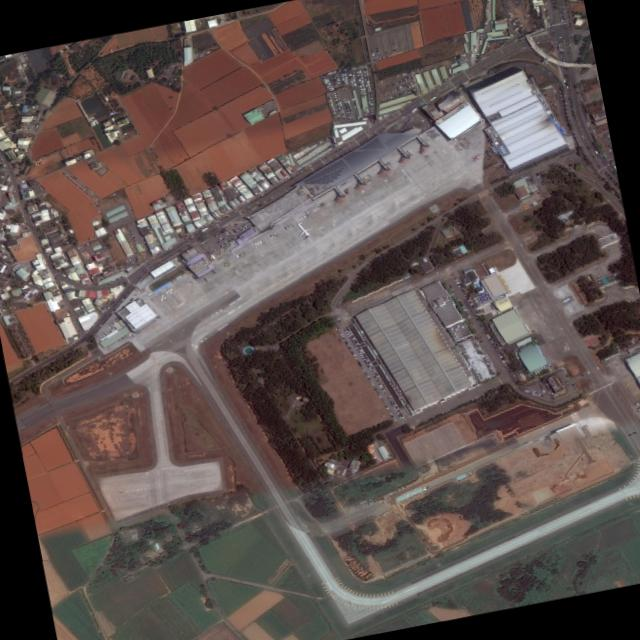large-vehicle: (411, 108, 416, 113), (429, 97, 435, 101), (550, 33, 556, 35)
plane: (290, 219, 317, 242), (561, 295, 573, 306), (164, 287, 174, 296), (159, 295, 166, 301)
